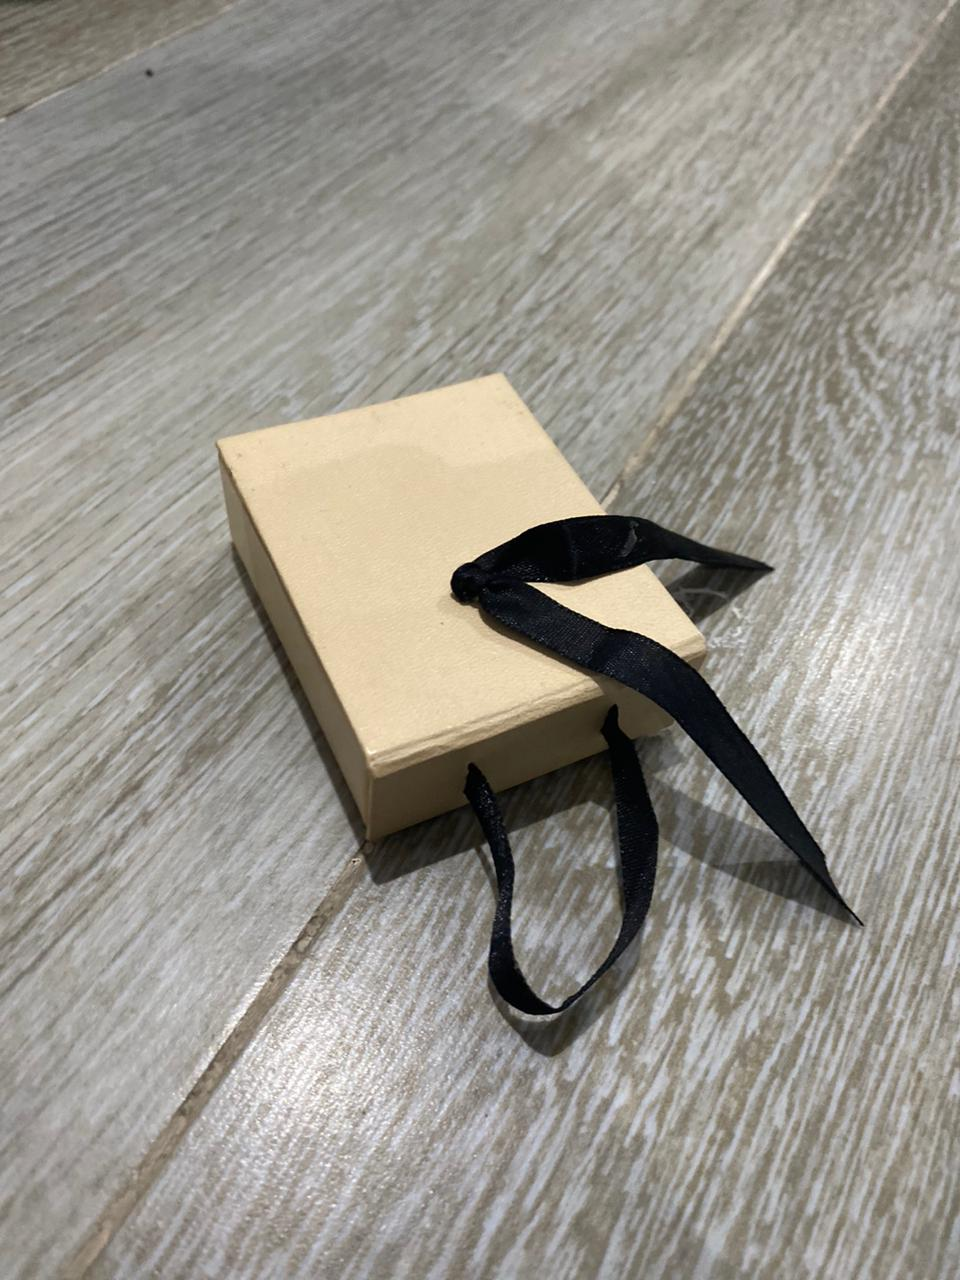Yellow Box: (202, 365, 728, 857)
